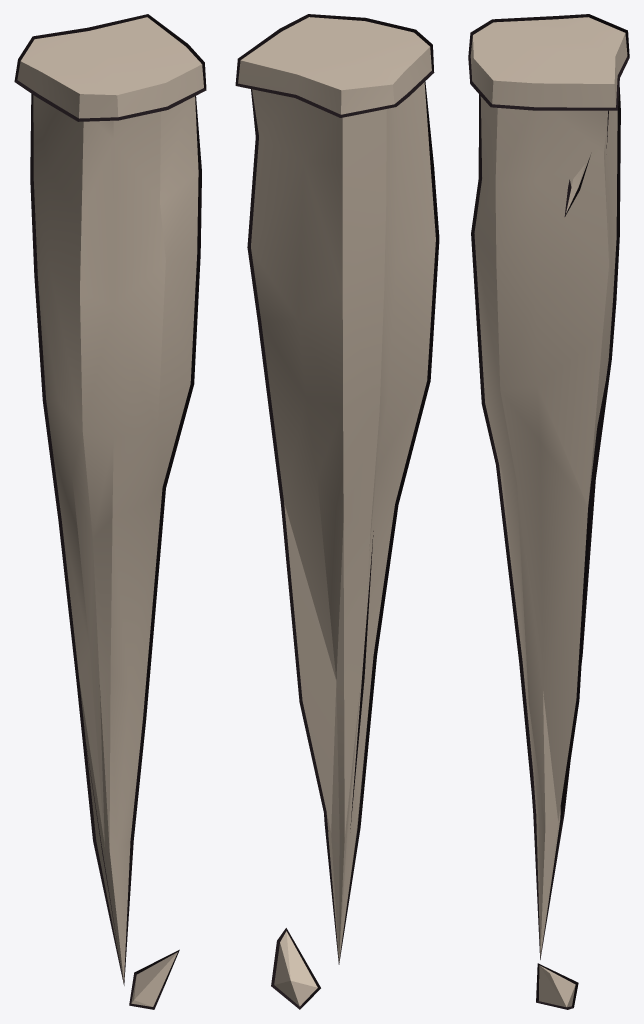
The model's file is SM_Trail_Node_02.fbx.
3 views of the same model, side by side, from view 1: azimuth 30°, elevation 25°; view 2: azimuth 150°, elevation 25°; view 3: azimuth 270°, elevation 25° (orthographic). The views are drawn at different scales.
Visible parts, largest first — view 1: SM_Trail_Node_02; view 2: SM_Trail_Node_02; view 3: SM_Trail_Node_02.
Boxes of the visible parts, box(x1,y1,x2,y2) form: SM_Trail_Node_02: box(14, 14, 206, 1009); SM_Trail_Node_02: box(235, 14, 439, 1009); SM_Trail_Node_02: box(468, 14, 629, 1009).
Bounding box in the file's own units: 6.84 × 41.92 × 6.48.
